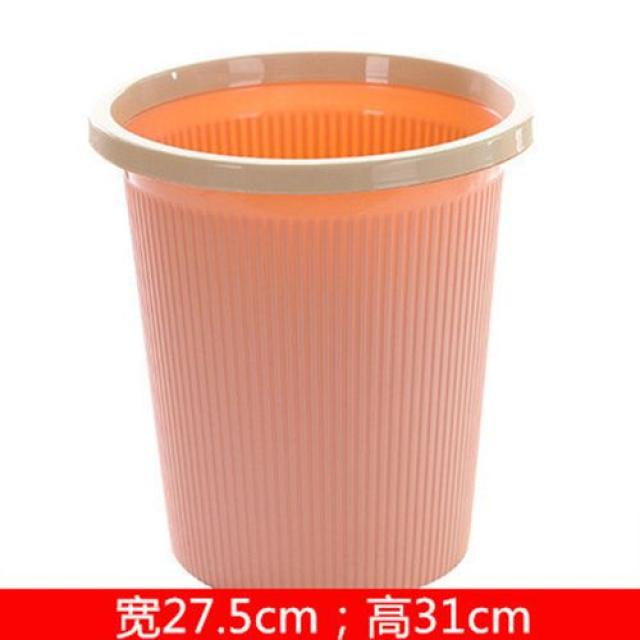dustbin: (84, 42, 542, 588)
